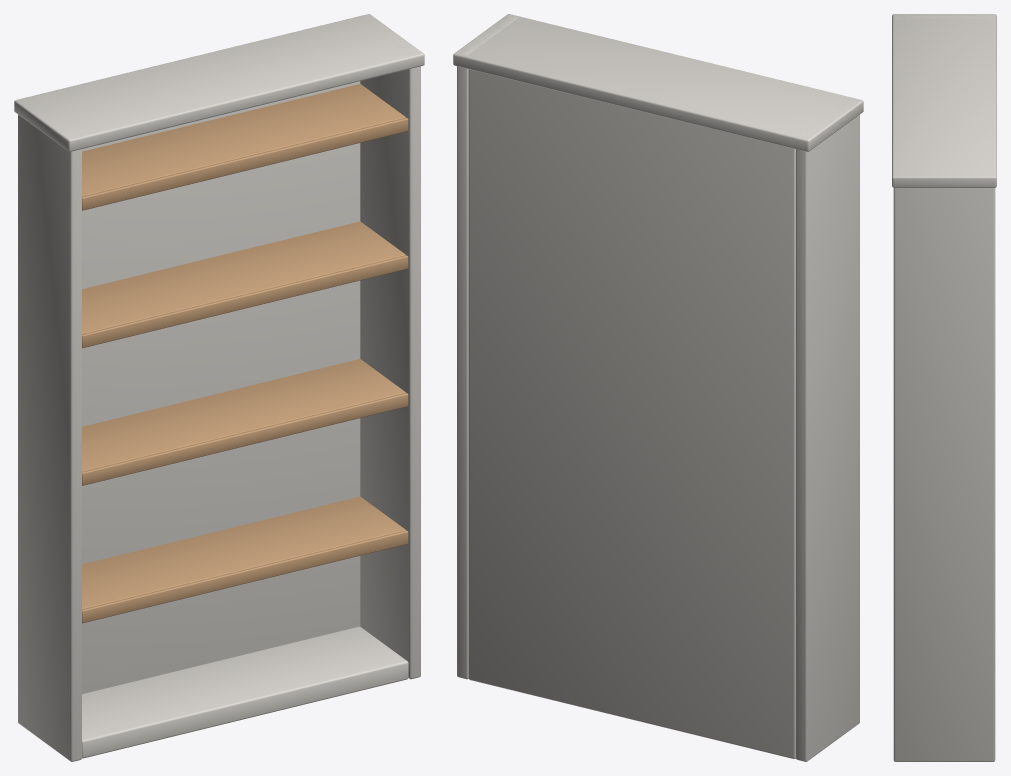
File: living-bookshelf.glb
3 renders of one model, left to right at view 1: azimuth 30°, elevation 25°; view 2: azimuth 150°, elevation 25°; view 3: azimuth 270°, elevation 25°, orthographic. The views are drawn at different scales.
Parts seen in each view (by area): view 1: Bookshelf__Frame, Bookshelf__Shelves; view 2: Bookshelf__Frame; view 3: Bookshelf__Frame.
Boxes of the visible parts, left/top/right/bottom form: Bookshelf__Frame: left=14, top=14, right=424, bottom=761; Bookshelf__Shelves: left=82, top=83, right=408, bottom=623; Bookshelf__Frame: left=453, top=14, right=863, bottom=761; Bookshelf__Frame: left=892, top=14, right=996, bottom=761.
Size of the model in its own units: 122 by 204 by 33.
